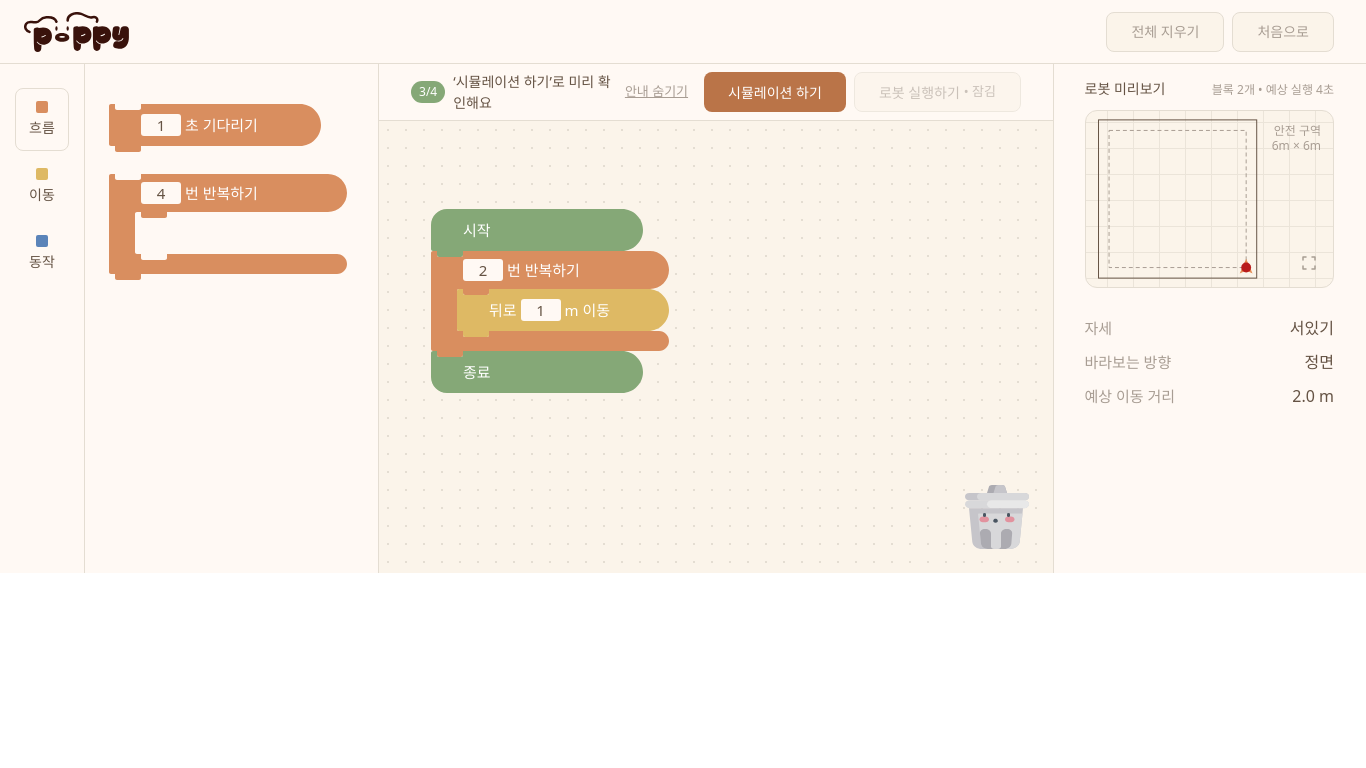
Scenario: 편집기 — 범위 밖 값 안내와 팔레트 기본값 › 범위 밖 값이면 블록 아래 안내가 뜨고 시뮬레이션이 막힌다
The width and height of the screenshot is (1366, 768).
Replace the text in the number field named "반복 횟수" with "11" at (483, 270), box [463,259,503,281]
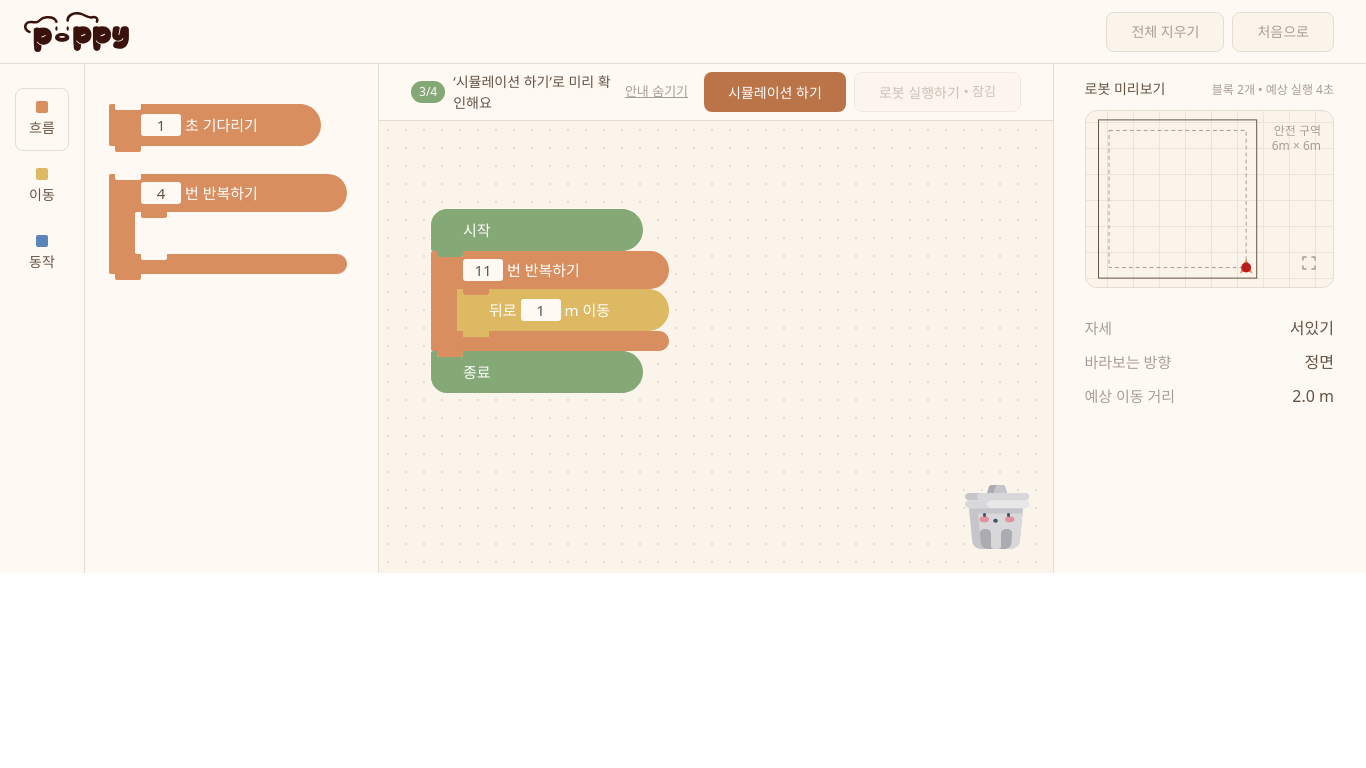
Leave the number field named "반복 횟수", box [463,259,503,281]
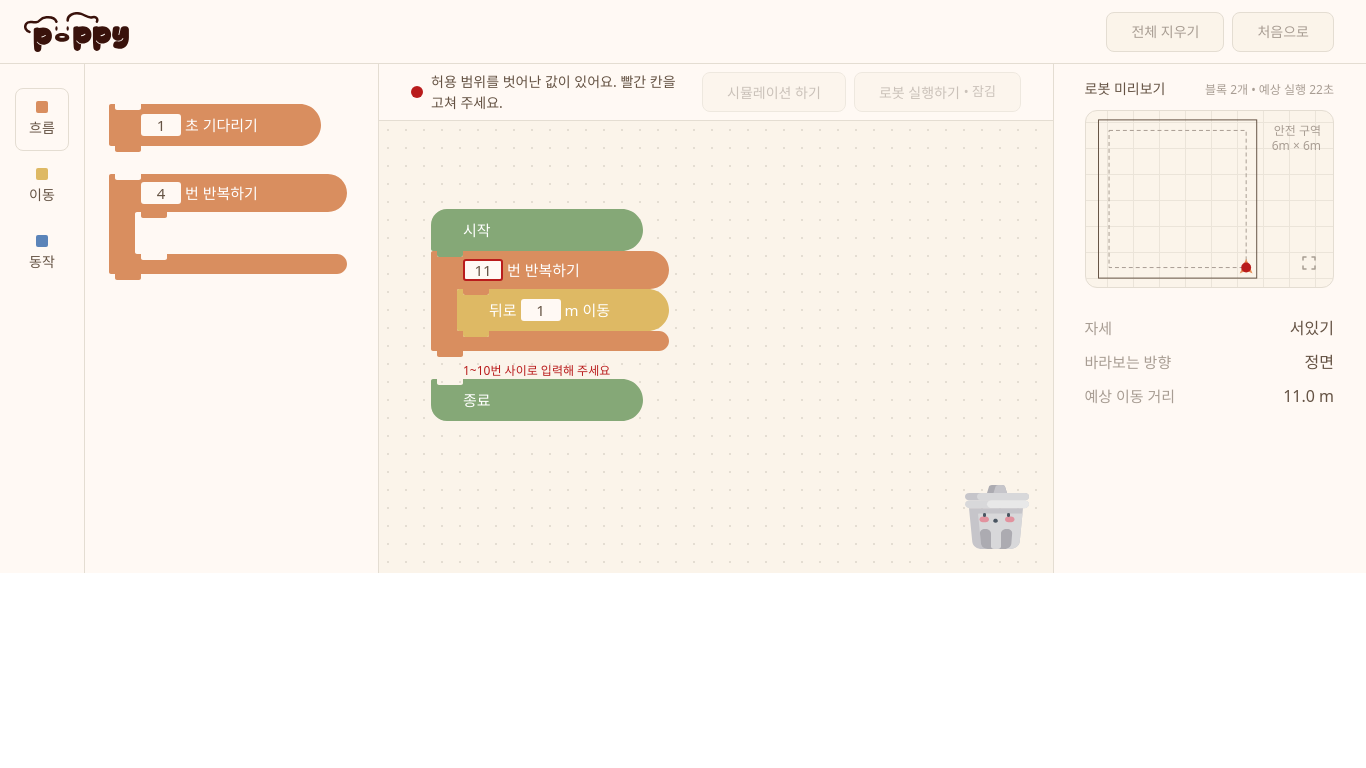
expect the message "1~10번 사이로 입력해 주세요" is shown: met, box [463,362,610,379]
Replace the text in the number field named "이동 거리 (미터)" with "0.25" at (541, 310), box [521,299,561,321]
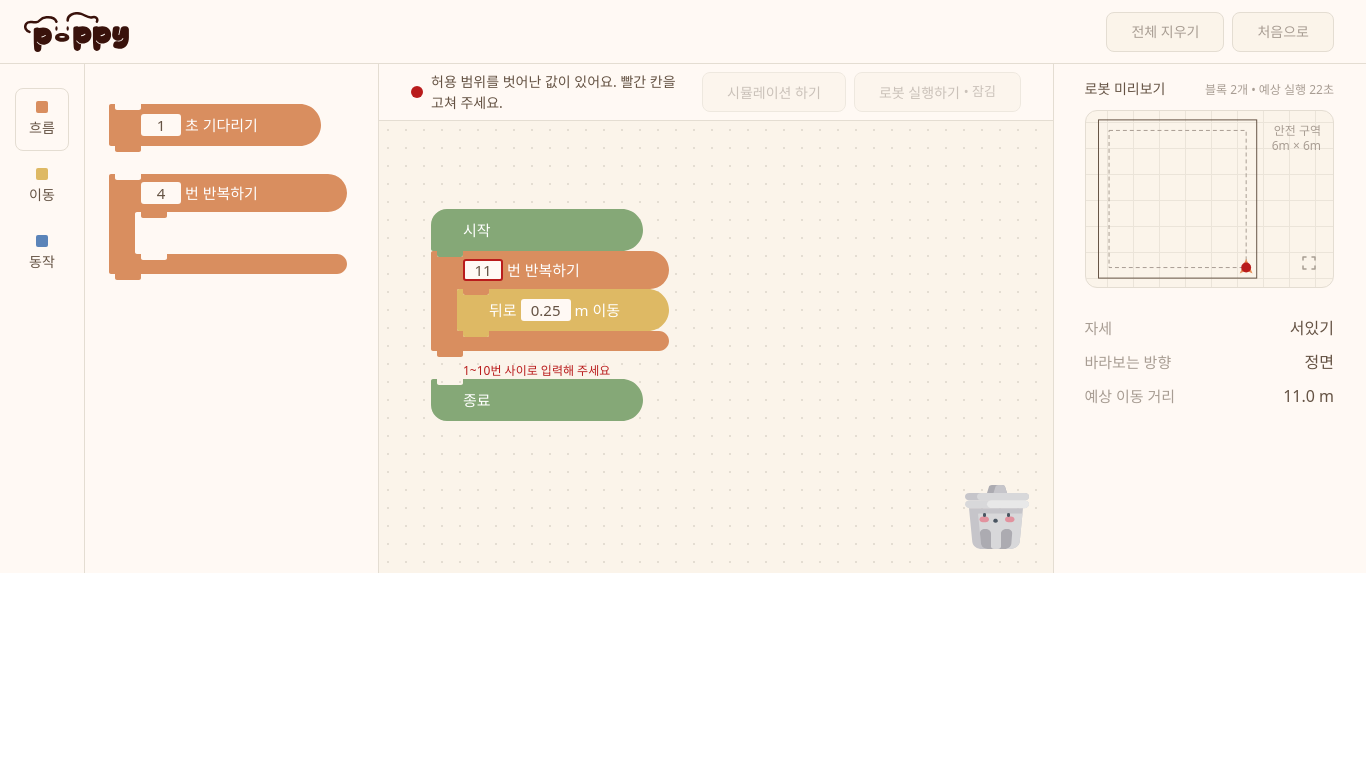
Leave the number field named "이동 거리 (미터)", box [521,299,571,321]
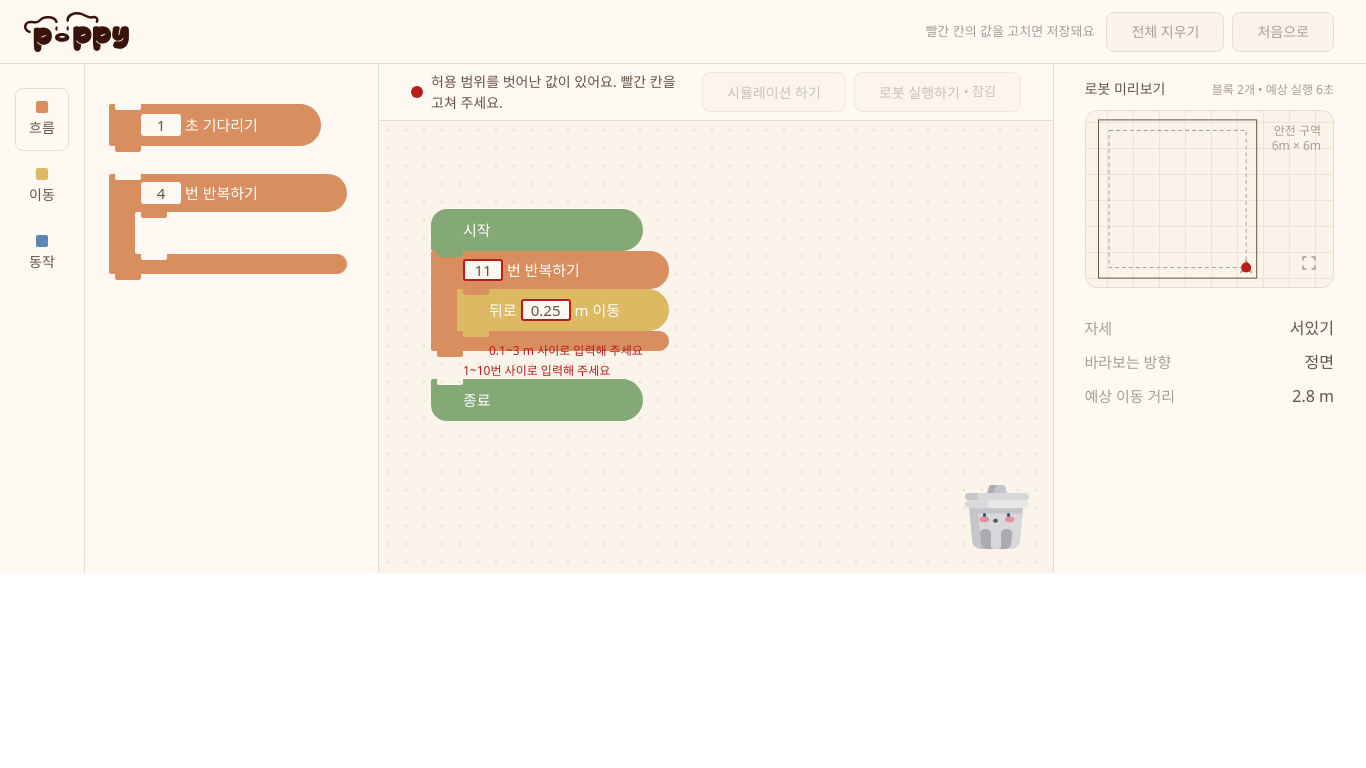
expect the message "0.1~3 m 사이로 입력해 주세요" is shown: met, box [489,342,643,359]
